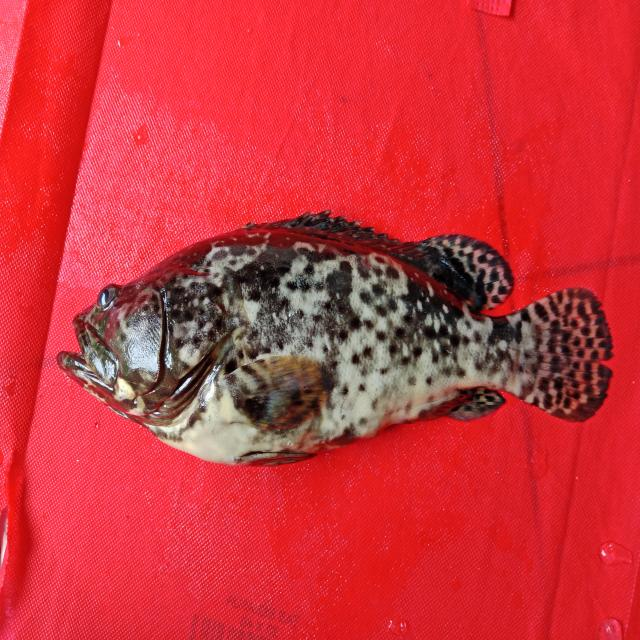ikan: (47, 192, 628, 488)
